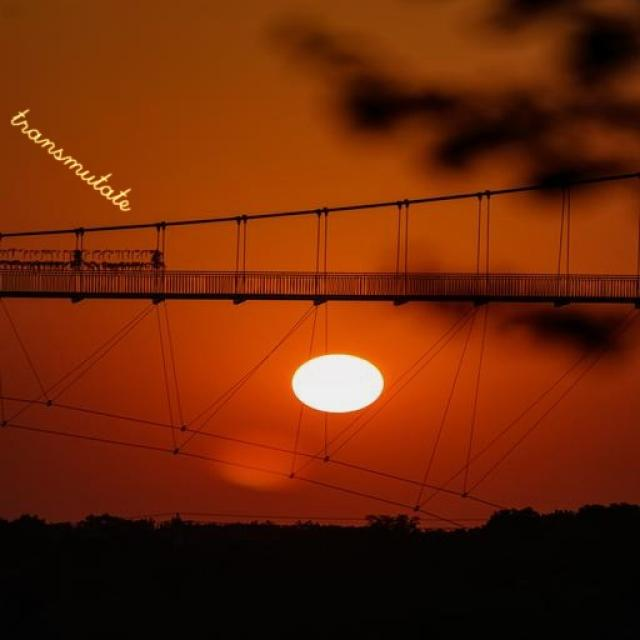watermark: (2, 99, 148, 218)
